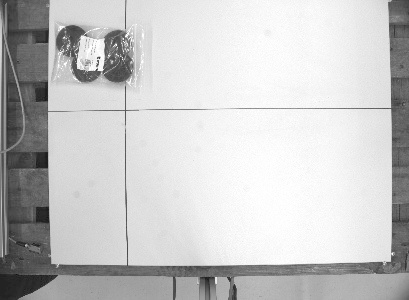t1: (47, 18, 146, 89)
